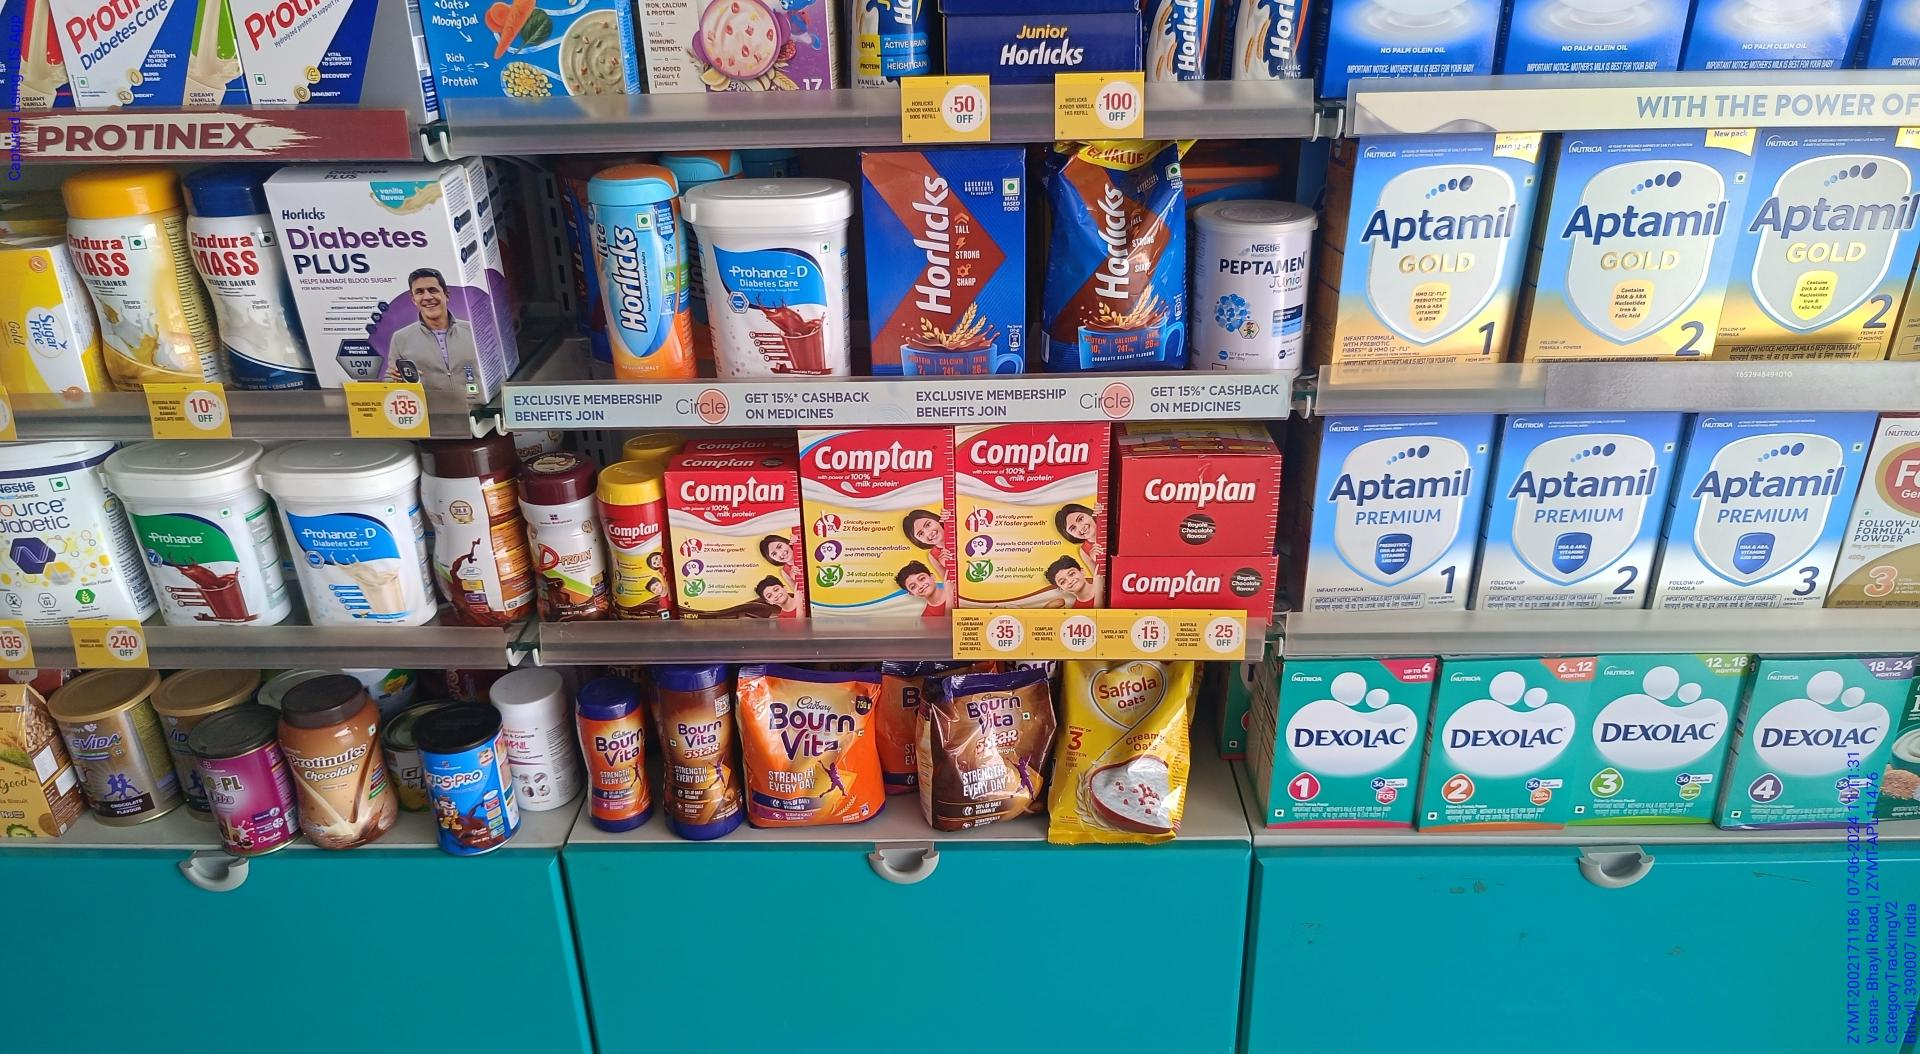BOURN_VITA_FIVE_STAR_MAGIC_500_G_JAR: (653, 668, 733, 827)
BOURN_VITA_FIVE_STAR_MAGIC_500_G_POUCH: (942, 672, 1037, 823)
HORLICKS_LITE_REGULAR_MALT_500_GM_JAR: (589, 162, 693, 373)
